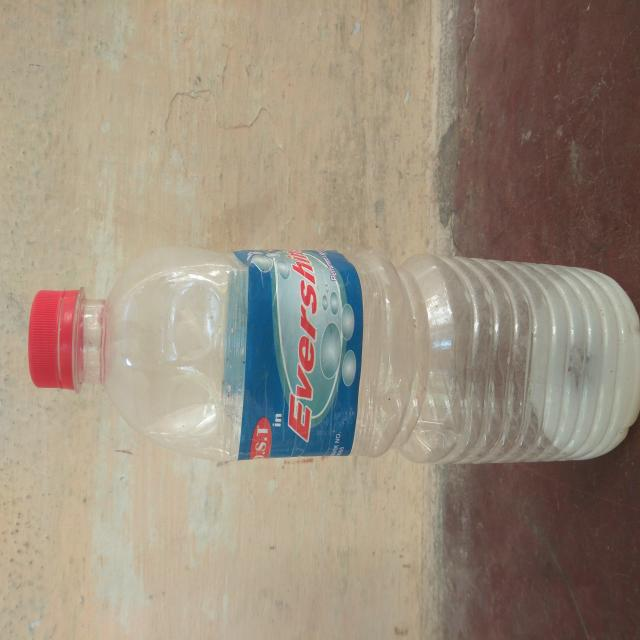bottle: (15, 226, 640, 474)
